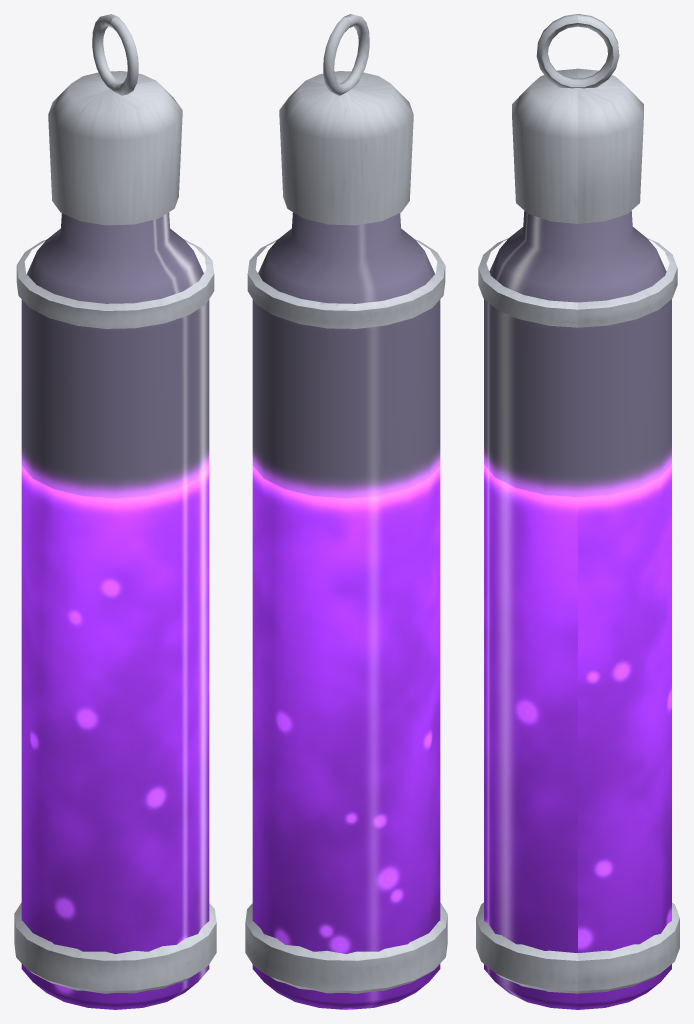
Rendered from Elixir.glb.
3 views of the same model, side by side, from view 1: azimuth 30°, elevation 25°; view 2: azimuth 150°, elevation 25°; view 3: azimuth 270°, elevation 25° (orthographic).
Visible parts, largest first — view 1: Elixir; view 2: Elixir; view 3: Elixir.
Part boxes in pixels (x1,y1,x2,y2): Elixir: [14, 14, 216, 1009]; Elixir: [245, 14, 447, 1009]; Elixir: [476, 14, 679, 1009].
Bounding box in the file's own units: 0.256 × 1.33 × 0.256.
1 material, 1 textured.
